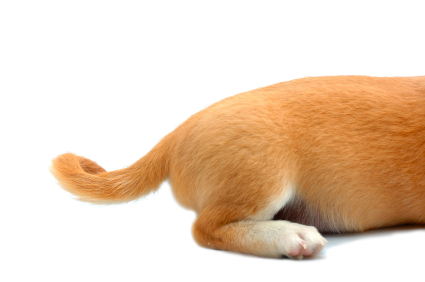tail: (51, 124, 181, 226)
